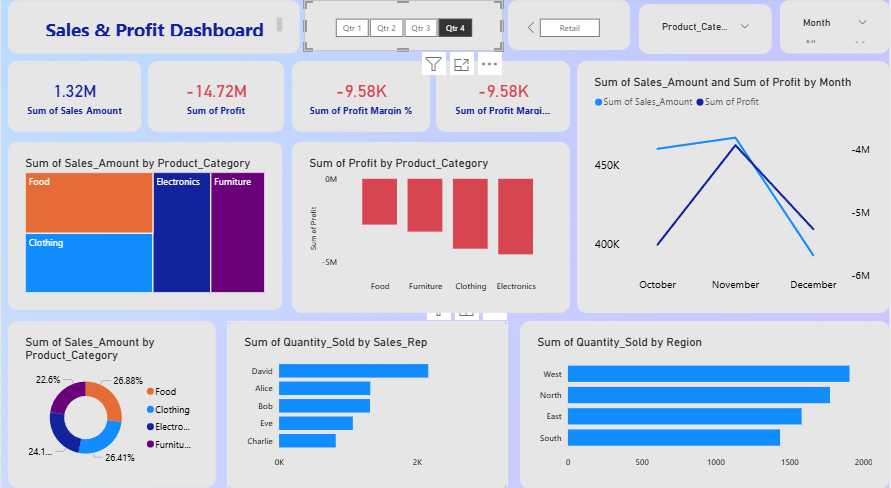

Layout of this report page (visuals, bound fields, positions):
{"tool":"powerbi","page":{"name":"Page 1","canvas":[1280,720],"ordinal":0},"visuals":[{"type":"lineChart","fields":{"Category":["sales_data.Sale_Date.Variation.Date Hierarchy.Month"],"Y":["Sum(sales_data.Sales_Amount)"],"Y2":["Sum(sales_data.Profit)"]},"box":[829.8,92.4,450.2,362.8],"z":0},{"type":"clusteredBarChart","fields":{"Category":["sales_data.Region"],"Y":["Sum(sales_data.Quantity_Sold)"]},"box":[747.5,467,532.5,241.9],"z":1000},{"type":"clusteredBarChart","fields":{"Category":["sales_data.Sales_Rep"],"Y":["Sum(sales_data.Quantity_Sold)"]},"box":[325.9,467,404.8,241.9],"z":2000},{"type":"donutChart","fields":{"Category":["sales_data.Product_Category"],"Y":["Sum(sales_data.Sales_Amount)"]},"box":[10.1,467,299,240.2],"z":3000},{"type":"clusteredColumnChart","fields":{"Category":["sales_data.Product_Category"],"Y":["Sum(sales_data.Profit)"]},"box":[419,208.8,400.3,246.2],"z":4000},{"type":"textbox","box":[10.1,5,419.9,77.3],"z":5000},{"type":"card","fields":{"Values":["Sum(sales_data.Sales_Amount)"]},"box":[10.1,92.2,191.5,102.2],"z":6000},{"type":"card","fields":{"Values":["Sum(sales_data.Profit)"]},"box":[211.7,92.2,195.8,102.2],"z":7000},{"type":"card","fields":{"Values":["Sum(sales_data.Profit Margin %)"]},"box":[419,92.2,198.7,102.2],"z":8000},{"type":"card","fields":{"Values":["Sum(sales_data.Profit Margin %)"]},"box":[626.4,92.2,193,102.2],"z":9000},{"type":"slicer","fields":{"Values":["sales_data.Sale_Date.Variation.Date Hierarchy.Quarter"]},"box":[436.7,5,285.6,72.2],"z":10000},{"type":"slicer","fields":{"Values":["sales_data.Sale_Date.Variation.Date Hierarchy.Month"]},"box":[1122.1,5,157.9,77.3],"z":11000},{"type":"slicer","fields":{"Values":["sales_data.Product_Category"]},"box":[918.8,10.1,191.5,72.2],"z":11001},{"type":"slicer","fields":{"Values":["sales_data.Sales_Channel"]},"box":[730.7,5,176.4,72.2],"z":11002},{"type":"treemap","fields":{"Group":["sales_data.Product_Category"],"Values":["Sum(sales_data.Sales_Amount)"]},"box":[10.1,208.3,394.8,241.9],"z":11003}]}

Visuals, with their boxes in screenshot pixels (x1, y1, x2, y2), scaled from the page's 1280x720 canvas onto the 891x488 screenshot:
lineChart - sales_data.Sale_Date.Variation.Date Hierarchy.Month x Sum(sales_data.Sales_Amount): <box>578,63,890,309</box>
clusteredBarChart - sales_data.Region x Sum(sales_data.Quantity_Sold): <box>520,317,890,480</box>
clusteredBarChart - sales_data.Sales_Rep x Sum(sales_data.Quantity_Sold): <box>227,317,509,480</box>
donutChart - sales_data.Product_Category x Sum(sales_data.Sales_Amount): <box>7,317,215,479</box>
clusteredColumnChart - sales_data.Product_Category x Sum(sales_data.Profit): <box>292,142,570,308</box>
textbox: <box>7,3,299,56</box>
card - Sum(sales_data.Sales_Amount): <box>7,62,140,132</box>
card - Sum(sales_data.Profit): <box>147,62,284,132</box>
card - Sum(sales_data.Profit Margin %): <box>292,62,430,132</box>
card - Sum(sales_data.Profit Margin %): <box>436,62,570,132</box>
slicer - sales_data.Sale_Date.Variation.Date Hierarchy.Quarter: <box>304,3,503,52</box>
slicer - sales_data.Sale_Date.Variation.Date Hierarchy.Month: <box>781,3,890,56</box>
slicer - sales_data.Product_Category: <box>640,7,773,56</box>
slicer - sales_data.Sales_Channel: <box>509,3,631,52</box>
treemap - sales_data.Product_Category x Sum(sales_data.Sales_Amount): <box>7,141,282,305</box>
